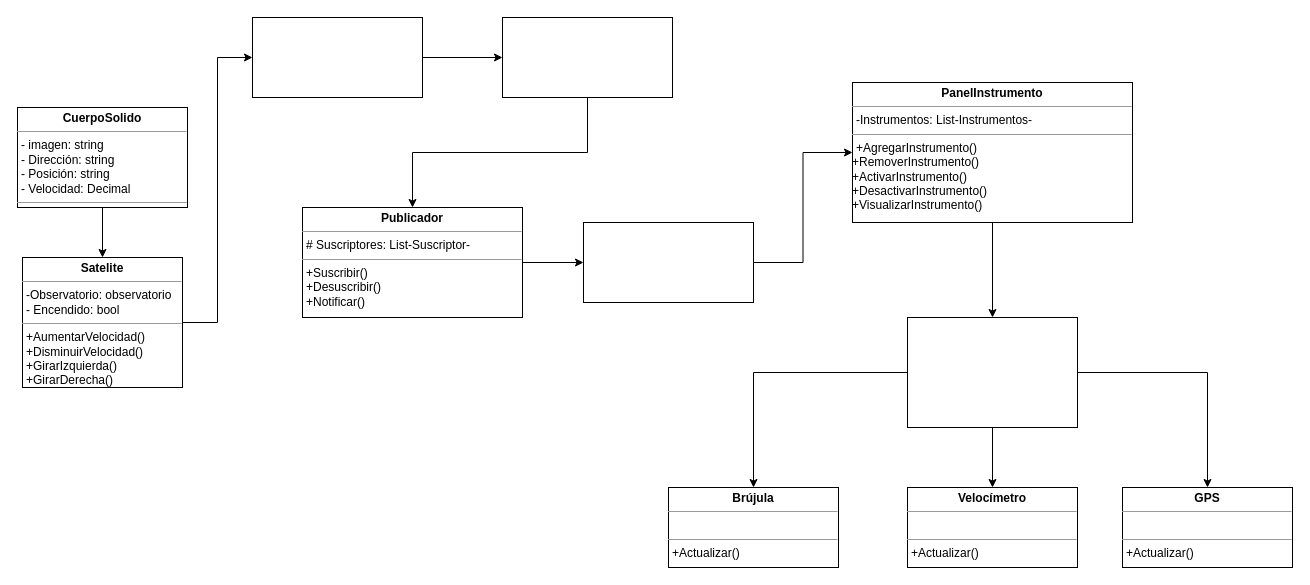
Image size: 1310x585. Some labels were removed from this diagram. Here are the shapes that lost their labels. From the top down, the box of each, then its label:
(252, 16, 422, 98): Observatorio -Satelite: satelite +ControlSatelite()
(502, 16, 672, 98): Observador +Actualizar()
(582, 222, 754, 302): Suscriptor +Actualizar()
(906, 316, 1078, 428): Instrumento +Activar() +Desactivar() +VisuaalizarInformacion()
